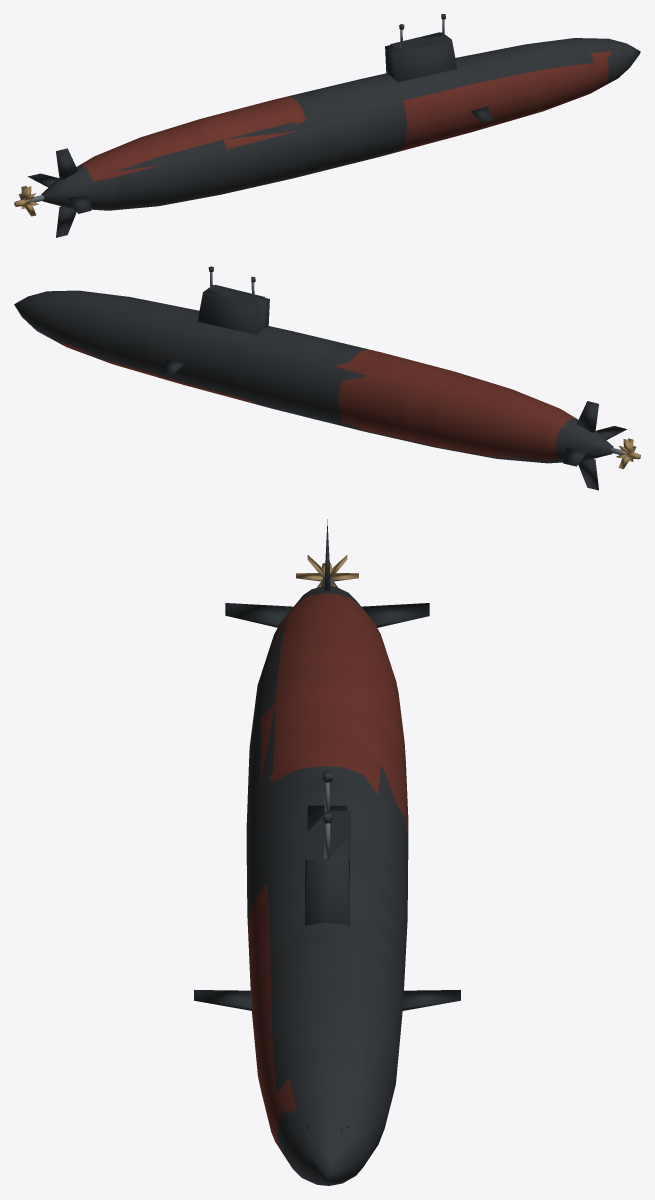
File: UK_SSN_Dreadnought_LOD3.fbx
The picture shows the model from 3 angles, top to bottom: view 1: azimuth 30°, elevation 25°; view 2: azimuth 150°, elevation 25°; view 3: azimuth 270°, elevation 25°; orthographic projection. The views are drawn at different scales.
Parts seen in each view (by area): view 1: UK_SSN_Dreadnought_LOD3; view 2: UK_SSN_Dreadnought_LOD3; view 3: UK_SSN_Dreadnought_LOD3.
Boxes of the visible parts, x1,y1,x2,y2 form: UK_SSN_Dreadnought_LOD3: (14,14,640,237); UK_SSN_Dreadnought_LOD3: (14,266,640,490); UK_SSN_Dreadnought_LOD3: (194,519,460,1185).
Bounding box in the file's own units: 84.75 × 15.67 × 16.64.
Materials: 6 (1 with a texture image).
